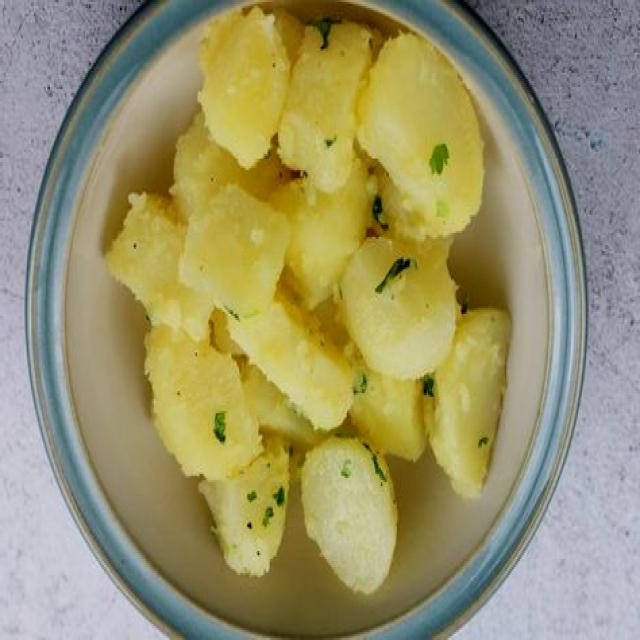kentang rebus: (356, 32, 483, 239), (171, 113, 293, 312), (143, 320, 265, 484), (196, 4, 305, 170), (338, 233, 460, 379), (227, 296, 354, 429), (427, 306, 513, 498), (298, 433, 398, 593), (197, 448, 290, 577)
